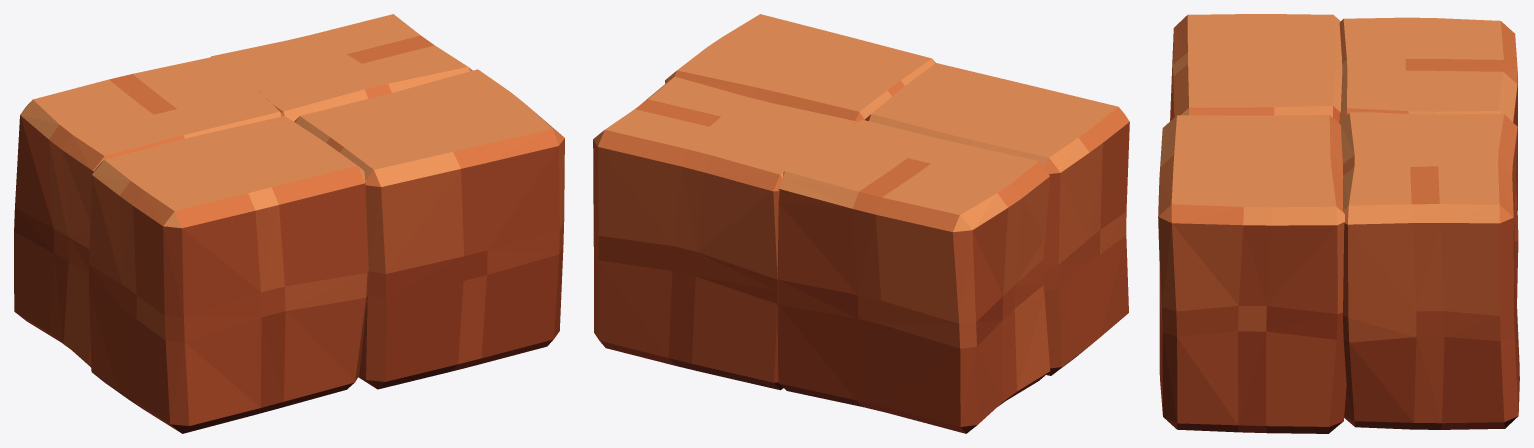
The model's file is SM_ROCK_BLOCK_01.fbx.
3 views of the same model, side by side, from view 1: azimuth 30°, elevation 25°; view 2: azimuth 150°, elevation 25°; view 3: azimuth 270°, elevation 25° (orthographic). The views are drawn at different scales.
Parts seen in each view (by area): view 1: ROCK_BLOCK_01; view 2: ROCK_BLOCK_01; view 3: ROCK_BLOCK_01.
Part boxes in pixels (box(x1,y1,x2,y2)): ROCK_BLOCK_01: box(14, 14, 564, 433); ROCK_BLOCK_01: box(593, 14, 1129, 433); ROCK_BLOCK_01: box(1158, 14, 1519, 433).
Bounding box in the file's own units: 1.7 × 1.28 × 0.8978.
